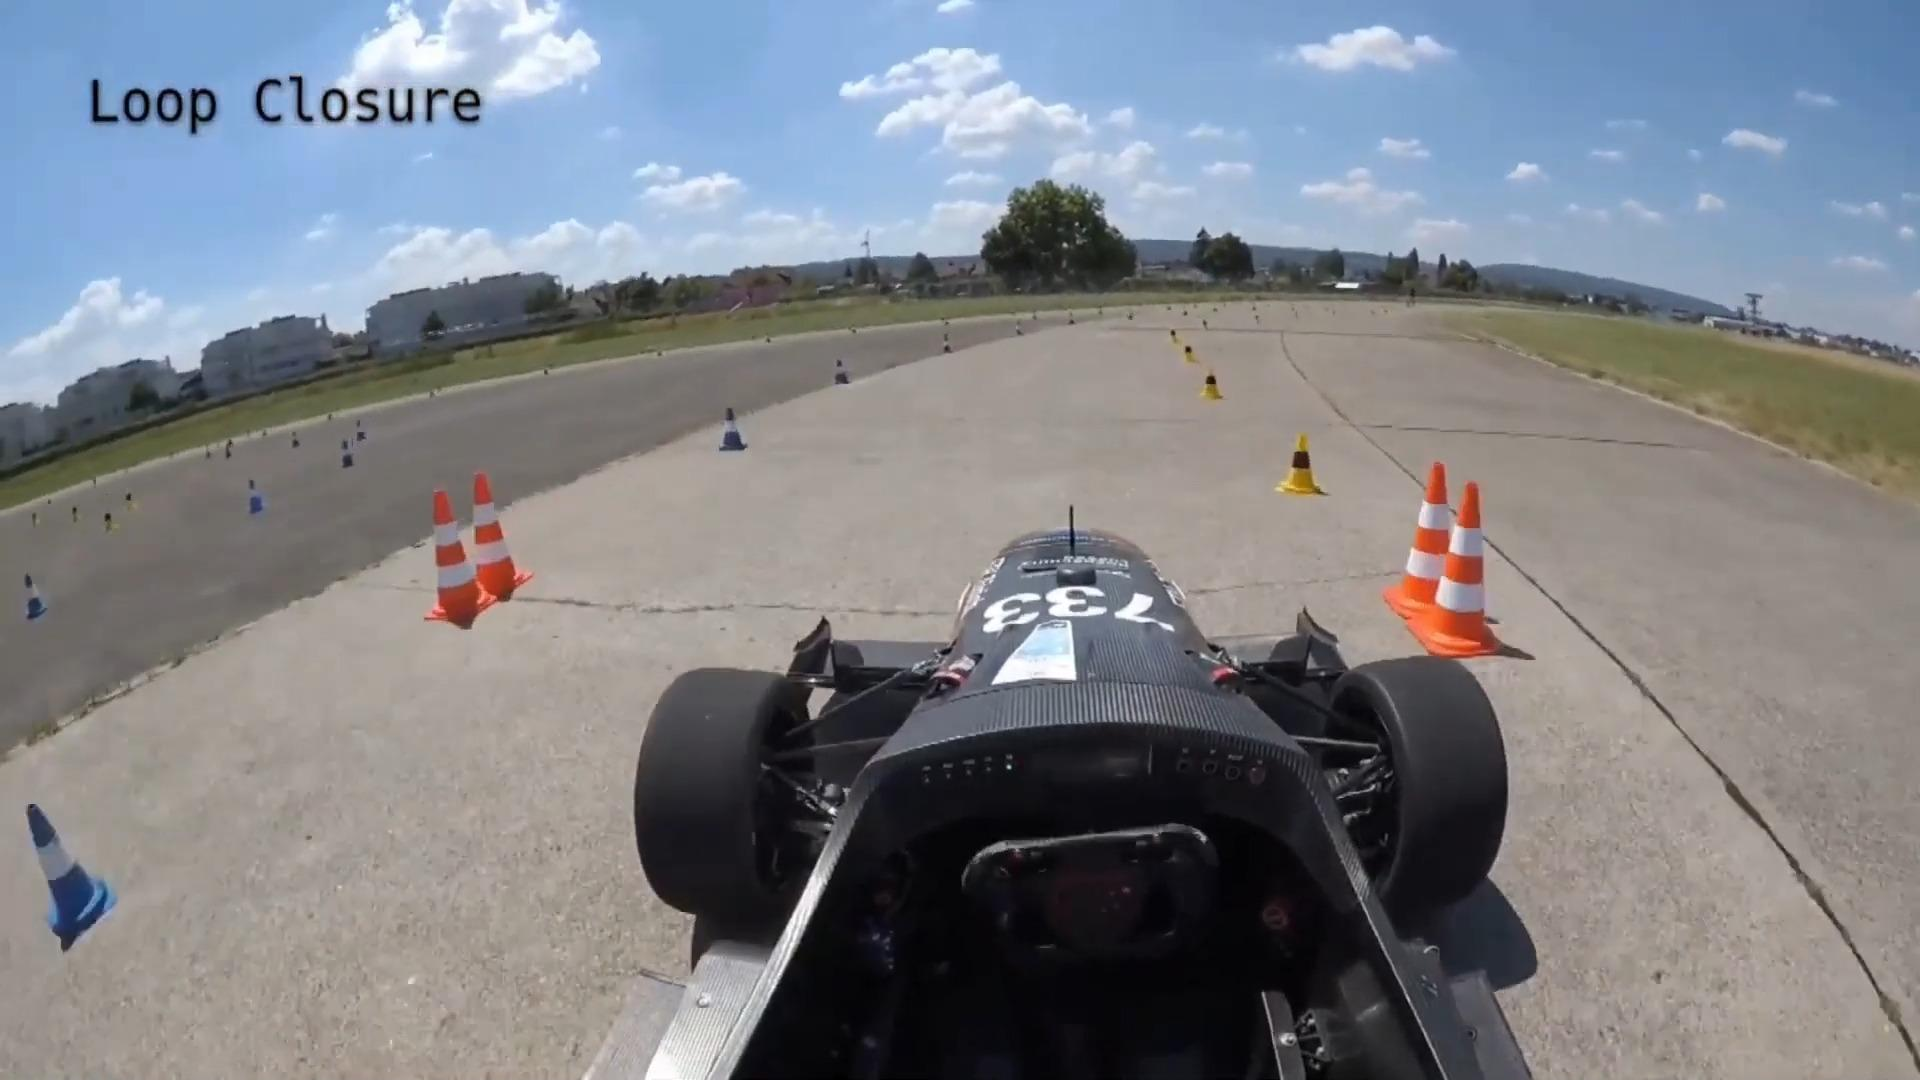blue_cone: (26, 800, 117, 945), (719, 407, 747, 453), (24, 572, 47, 623)
large_orange_cone: (1407, 480, 1502, 660), (1384, 460, 1464, 620), (422, 490, 497, 623), (469, 470, 534, 593)
yellow_cone: (1276, 432, 1325, 500), (1199, 365, 1225, 400)
